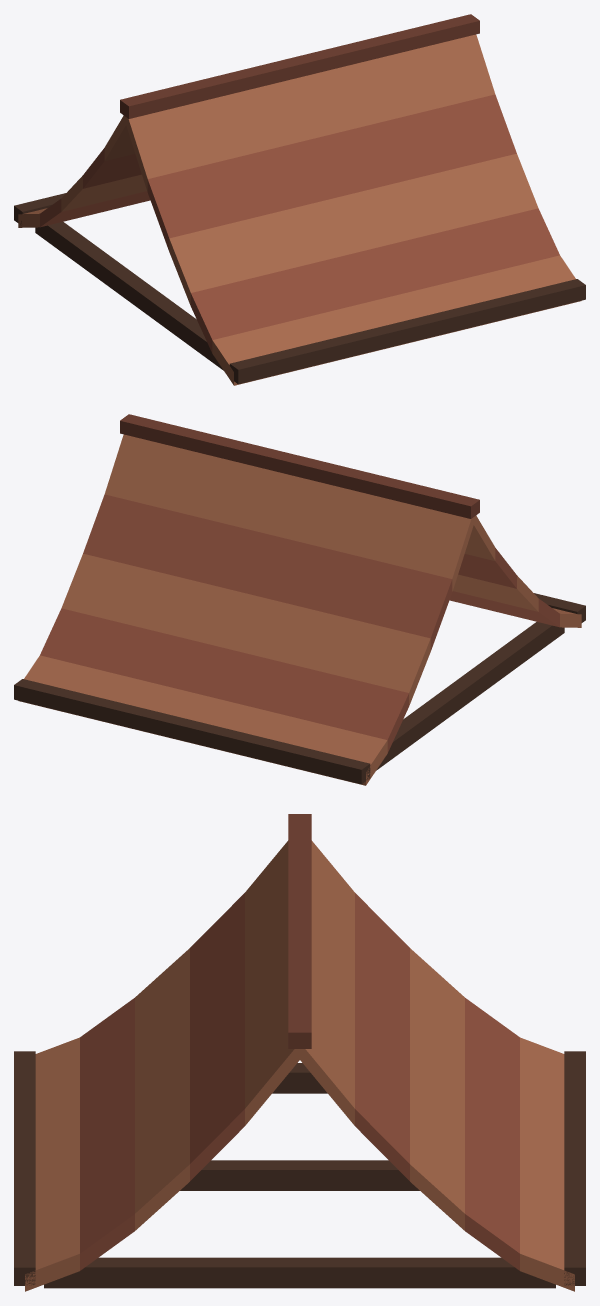
File: HallRoof__Gable.fbx
The picture shows the model from 3 angles, top to bottom: view 1: azimuth 30°, elevation 25°; view 2: azimuth 150°, elevation 25°; view 3: azimuth 270°, elevation 25°; orthographic projection. The views are drawn at different scales.
Visible parts, largest first — view 1: HallRoof__Gable; view 2: HallRoof__Gable; view 3: HallRoof__Gable.
Part boxes in pixels (x1,y1,x2,y2): HallRoof__Gable: (14,14,585,385); HallRoof__Gable: (14,414,585,785); HallRoof__Gable: (14,814,585,1291).
Bounding box in the file's own units: 404 × 227 × 447.
1 material, 1 textured.
